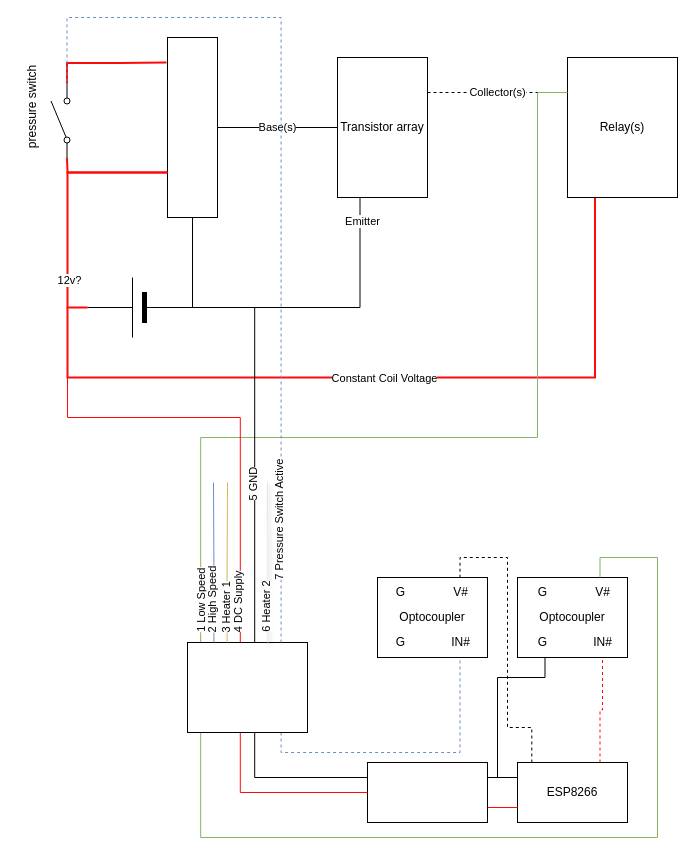
Image size: 695x856. Some labels were removed from this diagram. Each missing label, with the centre of its shape:
"5v Reg" goes at (x=427, y=792).
"Cat 5 Connector" goes at (x=247, y=687).
"PIC18" goes at (x=192, y=127).
